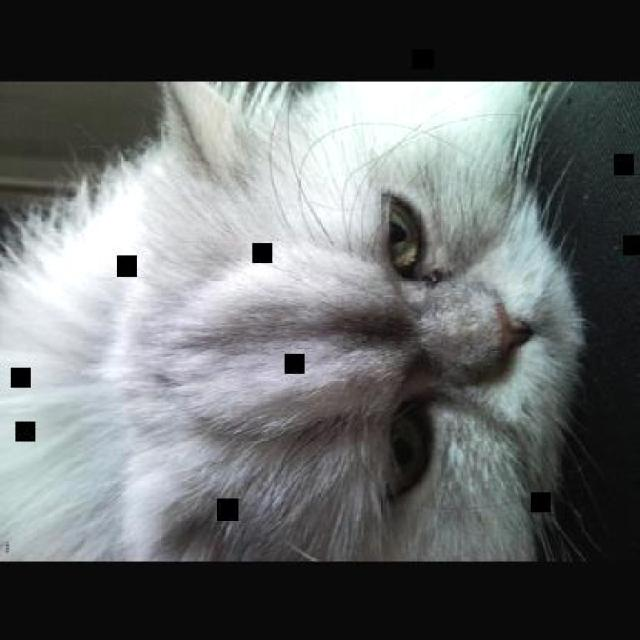unauthorized: (0, 79, 602, 562)
